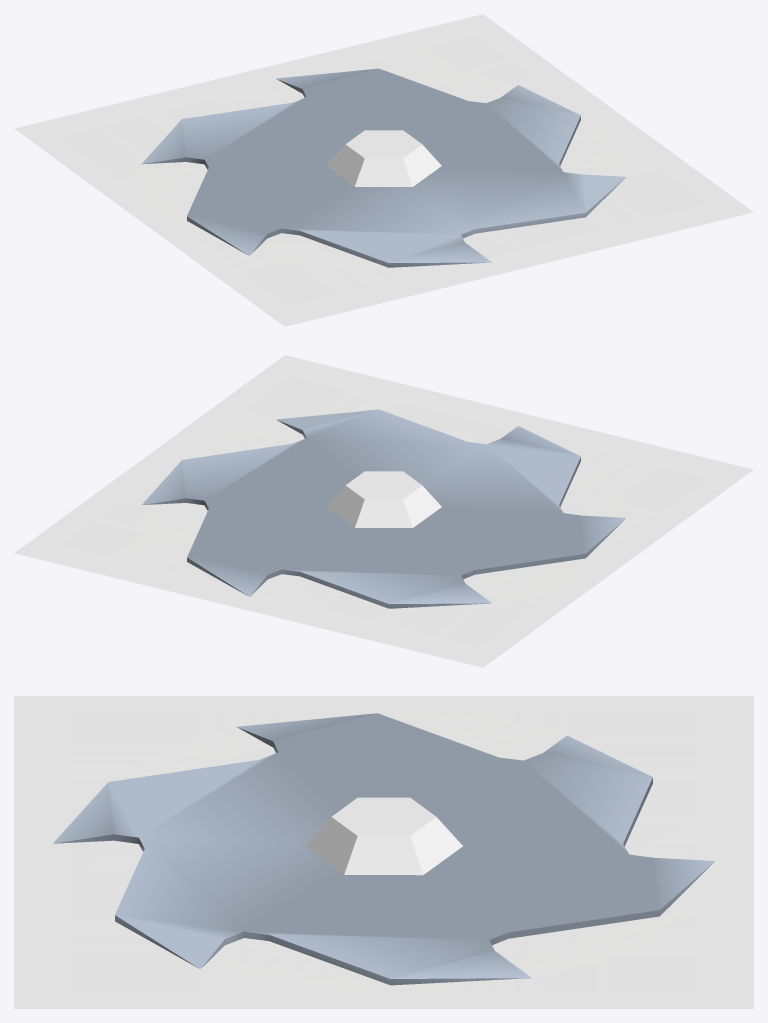
File: saw 1.FBX
3 renders of one model, top to bottom at view 1: azimuth 30°, elevation 25°; view 2: azimuth 150°, elevation 25°; view 3: azimuth 270°, elevation 25°, orthographic. The views are drawn at different scales.
Parts seen in each view (by area): view 1: Saw_Wind_FX, Saw_6_1, Saw_6_cell; view 2: Saw_Wind_FX, Saw_6_1, Saw_6_cell; view 3: Saw_Wind_FX, Saw_6_1, Saw_6_cell.
Part boxes in pixels (x1,y1,x2,y2): Saw_Wind_FX: [14, 14, 753, 326]; Saw_6_1: [141, 68, 625, 267]; Saw_6_cell: [326, 130, 441, 186]; Saw_Wind_FX: [14, 355, 753, 667]; Saw_6_1: [142, 409, 625, 608]; Saw_6_cell: [326, 471, 441, 527]; Saw_Wind_FX: [14, 696, 753, 1008]; Saw_6_1: [53, 713, 714, 985]; Saw_6_cell: [305, 797, 462, 875].
Size of the model in its own units: 219 by 13.72 by 219.
